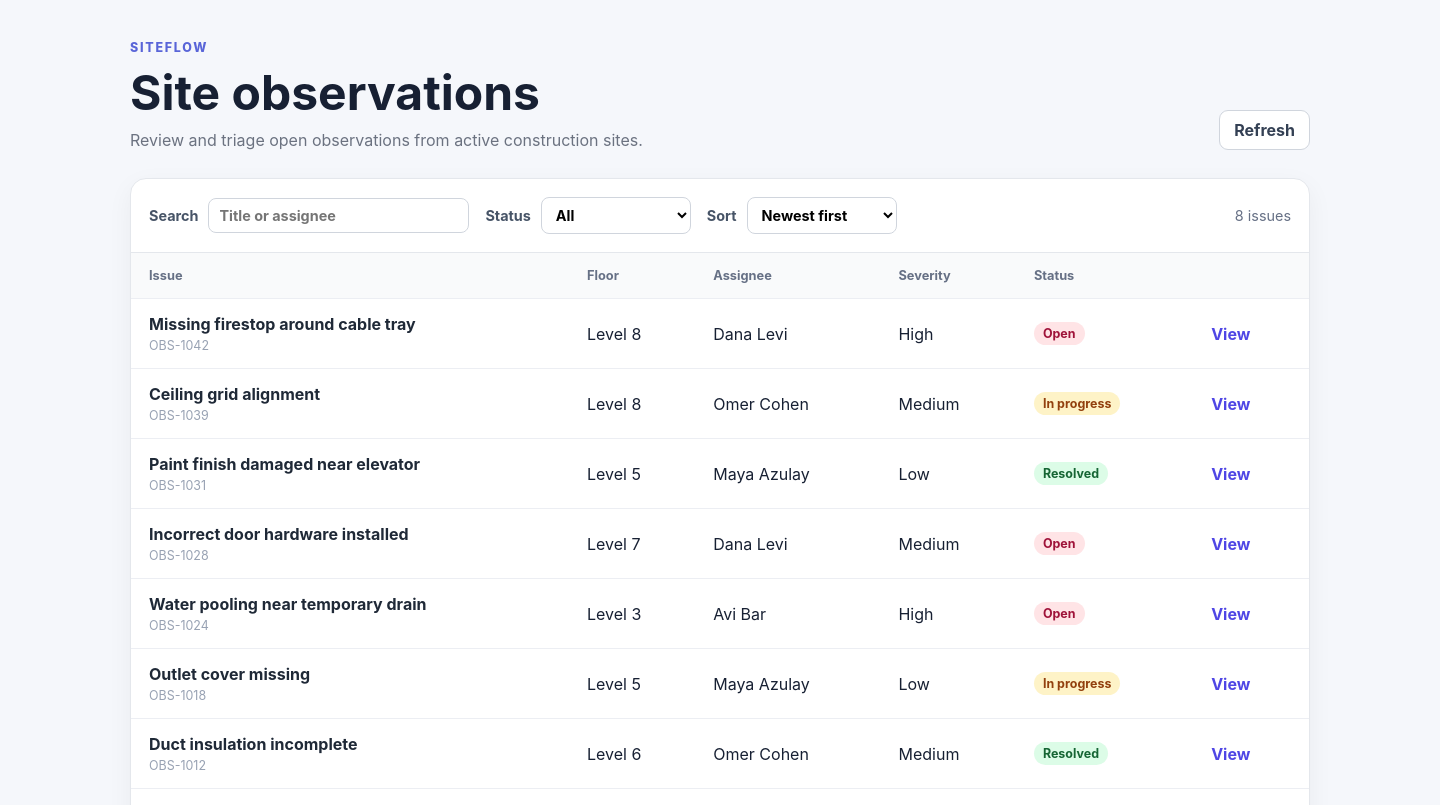
Test: App issue details › keeps the issue list available when the detail request fails
Click the button "View" in the row of "Missing firestop around cable tray" at x=1231, y=334, box [1205, 322, 1256, 344]
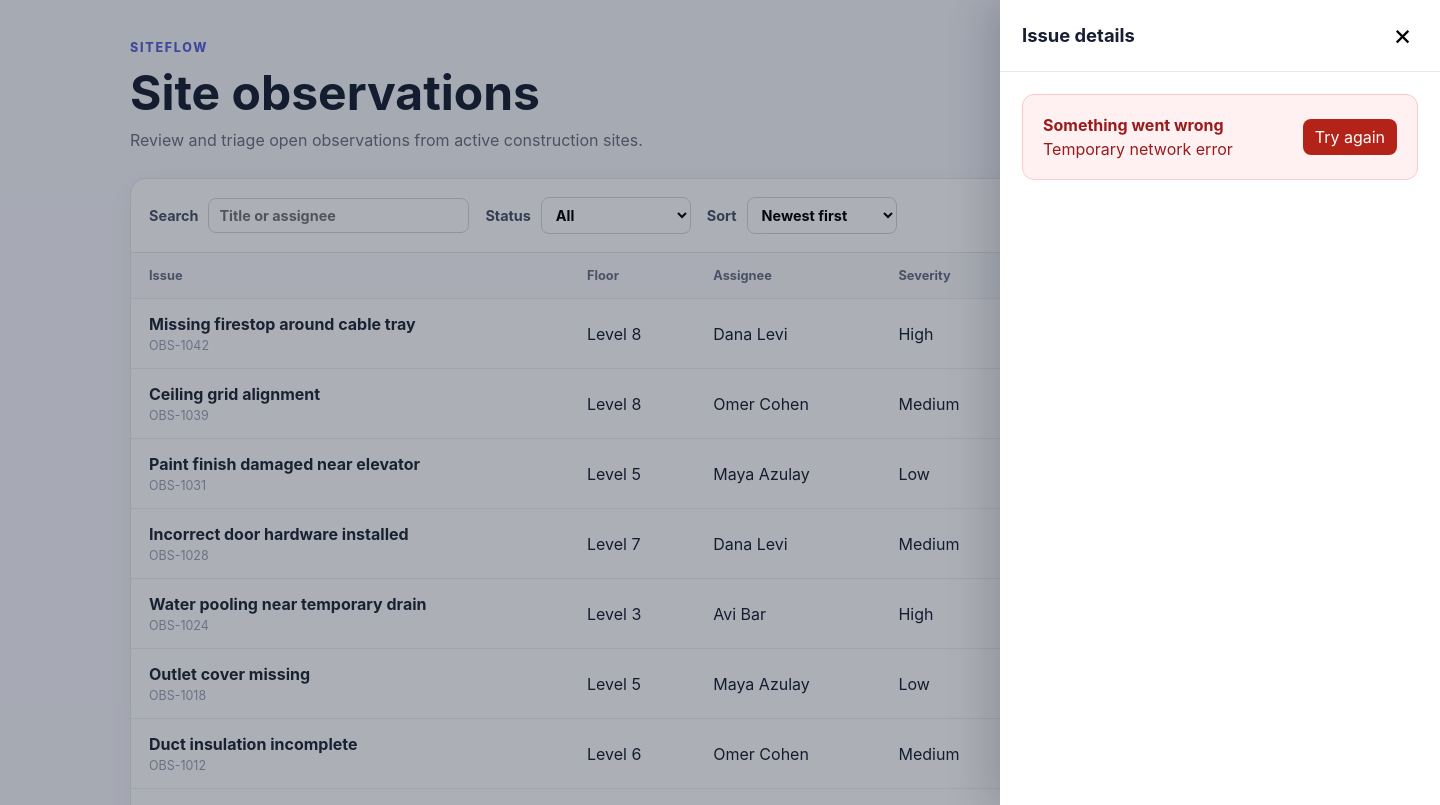
Expected: the text "OBS-1042" is shown, [149, 338, 209, 353]
Expected: the message shows "Temporary network error", [1043, 139, 1233, 159]
